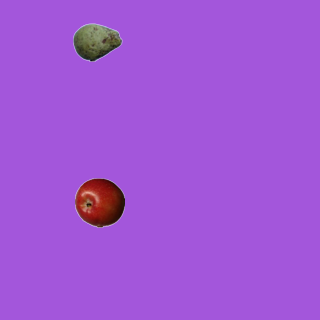Apple Braeburn: (74, 177, 124, 227)
Pear Stone: (72, 17, 122, 67)
